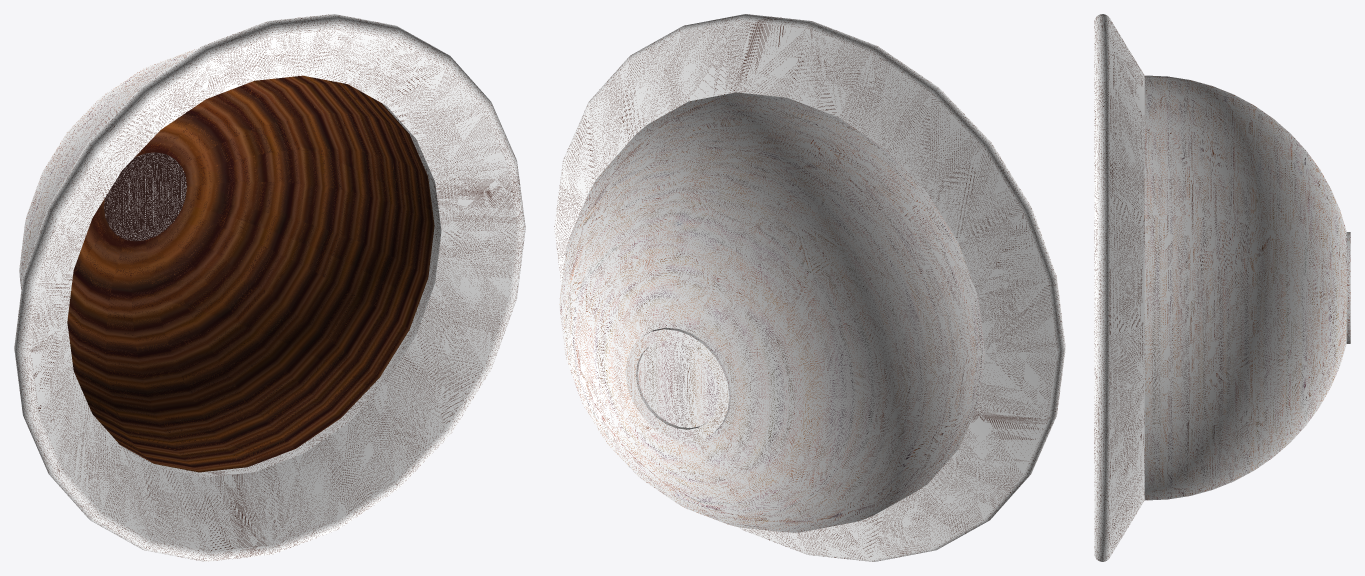
Rendered from model_align.obj.
3 renders of one model, left to right at view 1: azimuth 30°, elevation 25°; view 2: azimuth 150°, elevation 25°; view 3: azimuth 270°, elevation 25°, orthographic. The views are drawn at different scales.
Visible parts, largest first — view 1: mesh1_mesh1-geometry; view 2: mesh1_mesh1-geometry; view 3: mesh1_mesh1-geometry.
Boxes of the visible parts, <box> form: mesh1_mesh1-geometry: <box>14,14,525,561</box>; mesh1_mesh1-geometry: <box>554,14,1065,561</box>; mesh1_mesh1-geometry: <box>1094,14,1350,561</box>.
Size of the model in its own units: 0.1393 by 0.1393 by 0.065.
Materials: 5 (2 with a texture image).
